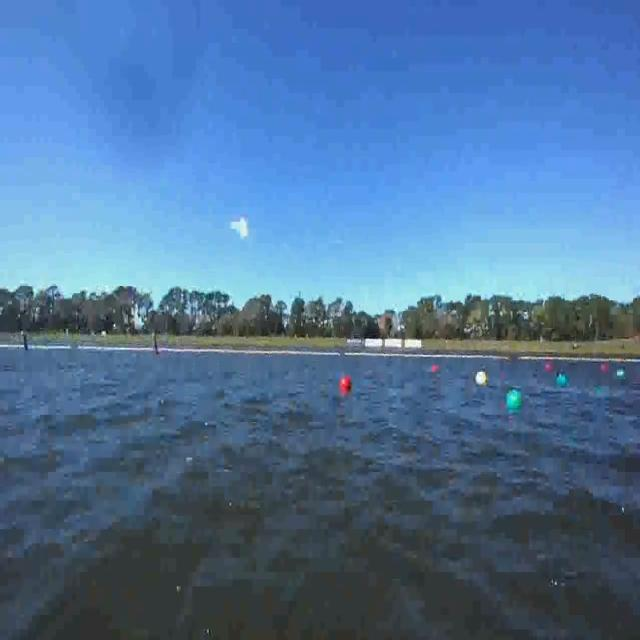green-buoy: (506, 387, 521, 408), (556, 374, 568, 388), (618, 368, 626, 379)
red-buoy: (342, 377, 353, 392), (431, 364, 438, 372)
yellow-buoy: (478, 372, 488, 386)
